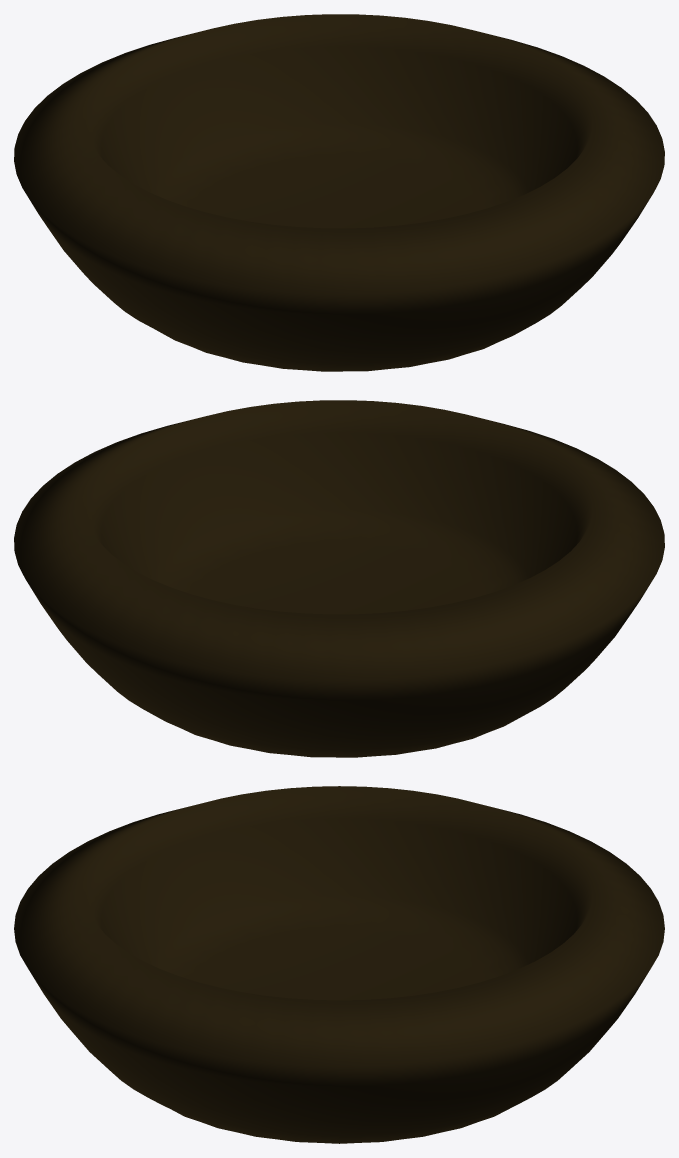
File: bowl.fbx
3 renders of one model, top to bottom at view 1: azimuth 30°, elevation 25°; view 2: azimuth 150°, elevation 25°; view 3: azimuth 270°, elevation 25°, orthographic.
Parts seen in each view (by area): view 1: Bowl; view 2: Bowl; view 3: Bowl.
Part boxes in pixels (box(x1,y1,x2,y2)): Bowl: box(14, 14, 664, 371); Bowl: box(14, 400, 664, 757); Bowl: box(14, 786, 664, 1143).
Bounding box in the file's own units: 39.77 × 12.05 × 39.77.
